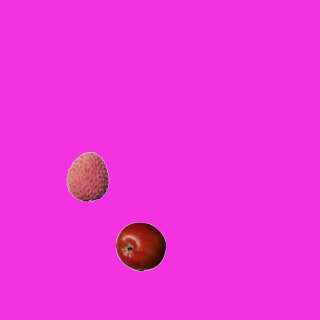Apple Braeburn: (115, 221, 165, 271)
Lychee: (62, 151, 112, 201)
